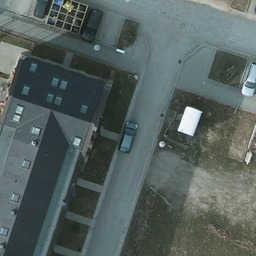car: (80, 9, 103, 44), (239, 63, 256, 100), (119, 121, 136, 154), (34, 1, 52, 18)
